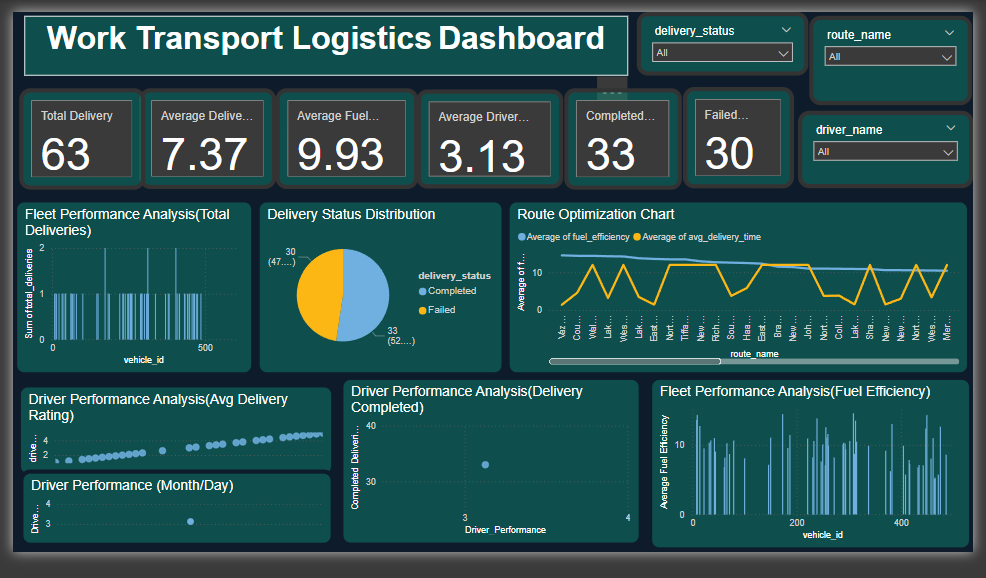

This screenshot's page, from the dashboard's own definition file:
{"tool":"powerbi","page":{"name":"\"Transport and Logistics Performance Dashboard\"","canvas":[1280,720],"ordinal":0},"visuals":[{"type":"lineChart","title":"Route Optimization Chart","fields":{"Category":["gold_dbase transportation_gold.route_name"],"Y":["Avg(gold_dbase transportation_gold.fuel_efficiency)","Avg(gold_dbase transportation_gold.avg_delivery_time)"]},"box":[656.7,247.8,621.1,237.8],"z":0},{"type":"scatterChart","title":"Driver Performance Analysis(Delivery Completed)","fields":{"Y":["gold_dbase transportation_gold.Completed Deliveries"],"X":["gold_dbase transportation_gold.Drive_Performance"]},"box":[434.4,485.6,404.4,227.8],"z":1000},{"type":"pieChart","title":"Delivery Status Distribution","fields":{"Category":["gold_dbase transportation_gold.delivery_status"],"Y":["Sum(gold_dbase transportation_gold.total_deliveries)"]},"box":[323.3,247.8,333.3,237.8],"z":2000},{"type":"slicer","fields":{"Values":["gold_dbase transportation_gold.route_name"]},"box":[1061.1,4.4,216.7,118.9],"z":3000},{"type":"slicer","fields":{"Values":["gold_dbase transportation_gold.driver_name"]},"box":[1046.7,132.2,233.3,103.3],"z":4000},{"type":"slicer","fields":{"Values":["gold_dbase transportation_gold.delivery_status"]},"box":[832.2,0,228.9,84.4],"z":5000},{"type":"textbox","box":[15.6,4.4,804.4,80],"z":6000},{"type":"clusteredColumnChart","title":"Fleet Performance Analysis(Fuel Efficiency)","fields":{"Category":["gold_dbase transportation_gold.vehicle_id"],"Y":["gold_dbase transportation_gold.Average Fuel Efficiency"]},"box":[846.7,485.6,433.3,234.4],"z":7000},{"type":"clusteredColumnChart","title":"Fleet Performance Analysis(Total Deliveries)","fields":{"Category":["gold_dbase transportation_gold.vehicle_id"],"Y":["Sum(gold_dbase transportation_gold.total_deliveries)"]},"box":[0,247.8,323.3,237.8],"z":8000},{"type":"scatterChart","title":"Driver Performance Analysis(Avg Delivery Rating)","fields":{"X":["gold_dbase transportation_gold.Drive_Performance"],"Y":["gold_dbase transportation_gold.driver_rating"]},"box":[4.4,494.4,424.4,125.6],"z":9000},{"type":"lineChart","title":"Driver Performance (Month/Day)","fields":{"Category":["gold_dbase transportation_gold.report_date.Variation.Date Hierarchy.Month","gold_dbase transportation_gold.report_date.Variation.Date Hierarchy.Day"],"Y":["gold_dbase transportation_gold.Driver_Performance"]},"box":[7.8,610,421.1,103.3],"z":10000},{"type":"cardVisual","fields":{"Data":["gold_dbase transportation_gold.Average Delivery Time"]},"box":[167.8,101.1,182.2,134.4],"z":11000},{"type":"cardVisual","fields":{"Data":["gold_dbase transportation_gold.Average Fuel Efficiency"]},"box":[350,101.1,190,134.4],"z":12000},{"type":"cardVisual","fields":{"Data":["gold_dbase transportation_gold.Average Driver Rating"]},"box":[538.9,103.3,195.6,132.2],"z":13000},{"type":"cardVisual","fields":{"Data":["gold_dbase transportation_gold.Completed Deliveries"]},"box":[734.4,102.2,156.7,135.6],"z":14000},{"type":"cardVisual","fields":{"Data":["gold_dbase transportation_gold.Failed Delivery"]},"box":[893.3,100,147.8,135.6],"z":15000},{"type":"cardVisual","fields":{"Data":["gold_dbase transportation_gold.Total Delivery"]},"box":[7.8,101.1,167.8,135.6],"z":16000}]}

Visuals, with their boxes on the page's 1280x720 design canvas (x1, y1, x2, y2). These are canvas units, not pixel positions in the 986x578 screenshot, which may show the page scaled, cropped or inside an application window:
"Route Optimization Chart" lineChart: Rect(657, 248, 1278, 486)
"Driver Performance Analysis(Delivery Completed)" scatterChart: Rect(434, 486, 839, 713)
"Delivery Status Distribution" pieChart: Rect(323, 248, 657, 486)
slicer - gold_dbase transportation_gold.route_name: Rect(1061, 4, 1278, 123)
slicer - gold_dbase transportation_gold.driver_name: Rect(1047, 132, 1280, 236)
slicer - gold_dbase transportation_gold.delivery_status: Rect(832, 0, 1061, 84)
textbox: Rect(16, 4, 820, 84)
"Fleet Performance Analysis(Fuel Efficiency)" clusteredColumnChart: Rect(847, 486, 1280, 720)
"Fleet Performance Analysis(Total Deliveries)" clusteredColumnChart: Rect(0, 248, 323, 486)
"Driver Performance Analysis(Avg Delivery Rating)" scatterChart: Rect(4, 494, 429, 620)
"Driver Performance (Month/Day)" lineChart: Rect(8, 610, 429, 713)
cardVisual - gold_dbase transportation_gold.Average Delivery Time: Rect(168, 101, 350, 236)
cardVisual - gold_dbase transportation_gold.Average Fuel Efficiency: Rect(350, 101, 540, 236)
cardVisual - gold_dbase transportation_gold.Average Driver Rating: Rect(539, 103, 734, 236)
cardVisual - gold_dbase transportation_gold.Completed Deliveries: Rect(734, 102, 891, 238)
cardVisual - gold_dbase transportation_gold.Failed Delivery: Rect(893, 100, 1041, 236)
cardVisual - gold_dbase transportation_gold.Total Delivery: Rect(8, 101, 176, 237)
